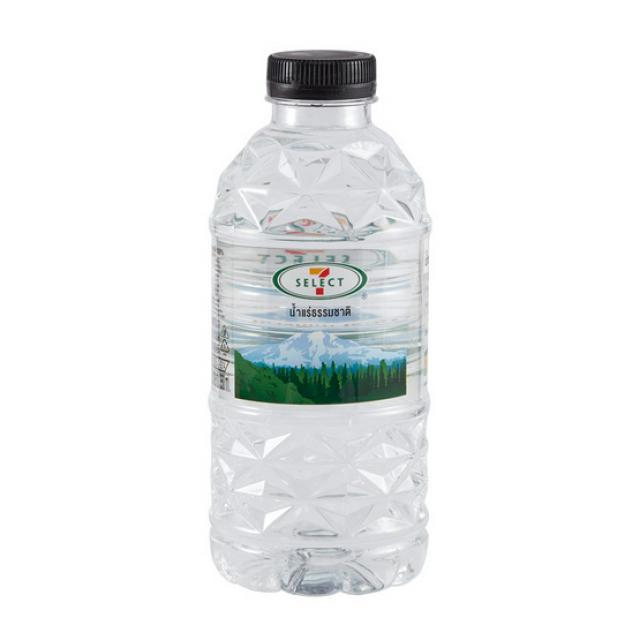plastic: (188, 33, 442, 604)
